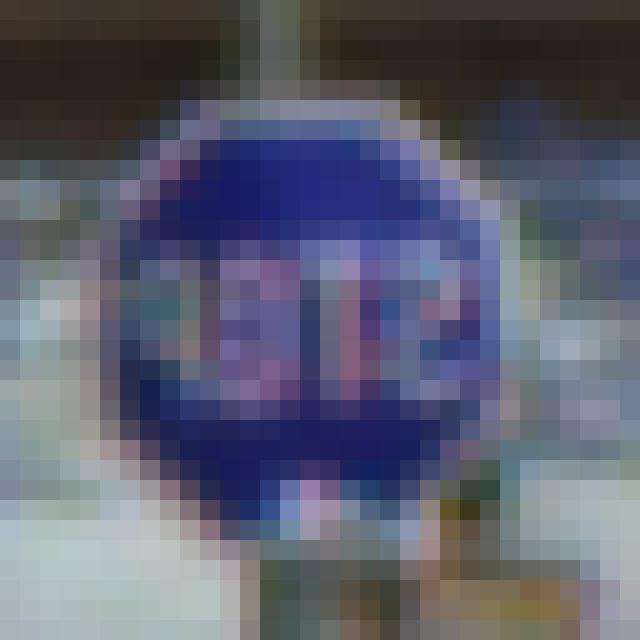STOP: (93, 112, 514, 538)
